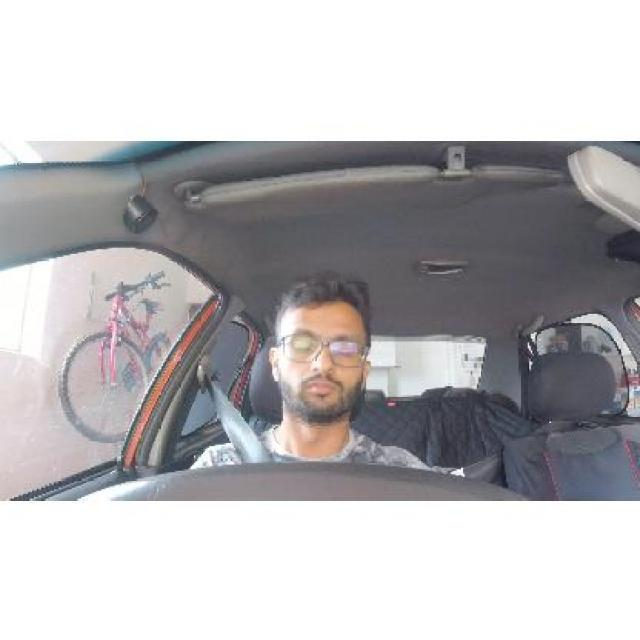drowsy: (243, 249, 393, 456)
